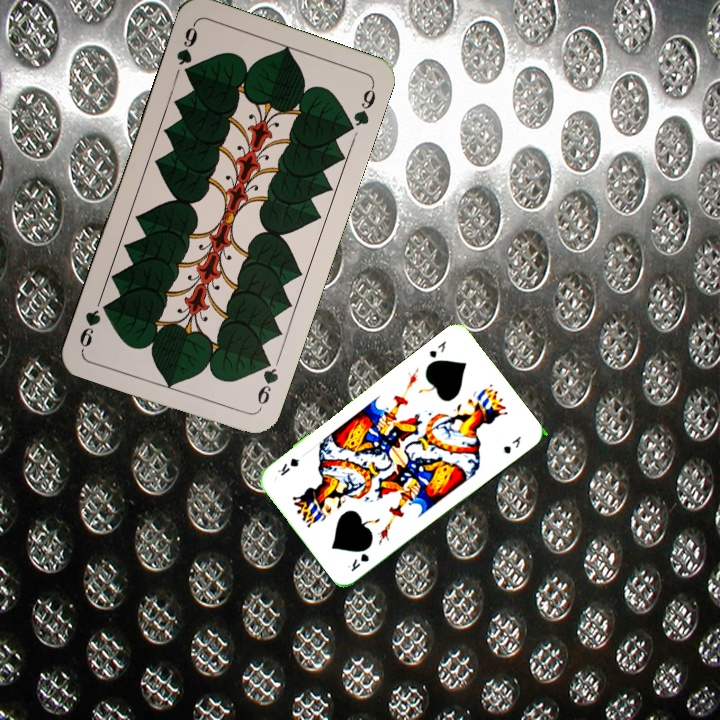G9: (172, 19, 200, 80), (253, 352, 281, 408)
GK: (343, 549, 372, 574), (425, 337, 449, 360)
